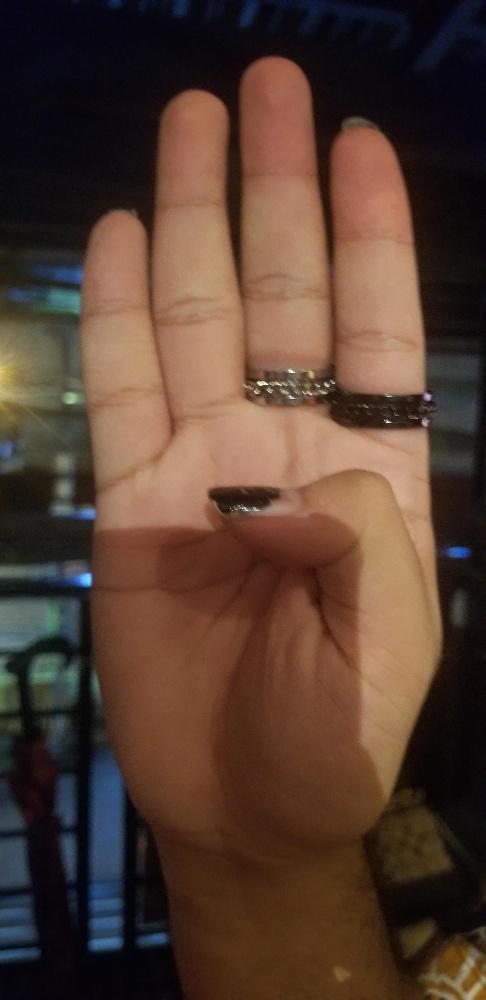b: (70, 61, 448, 830)
